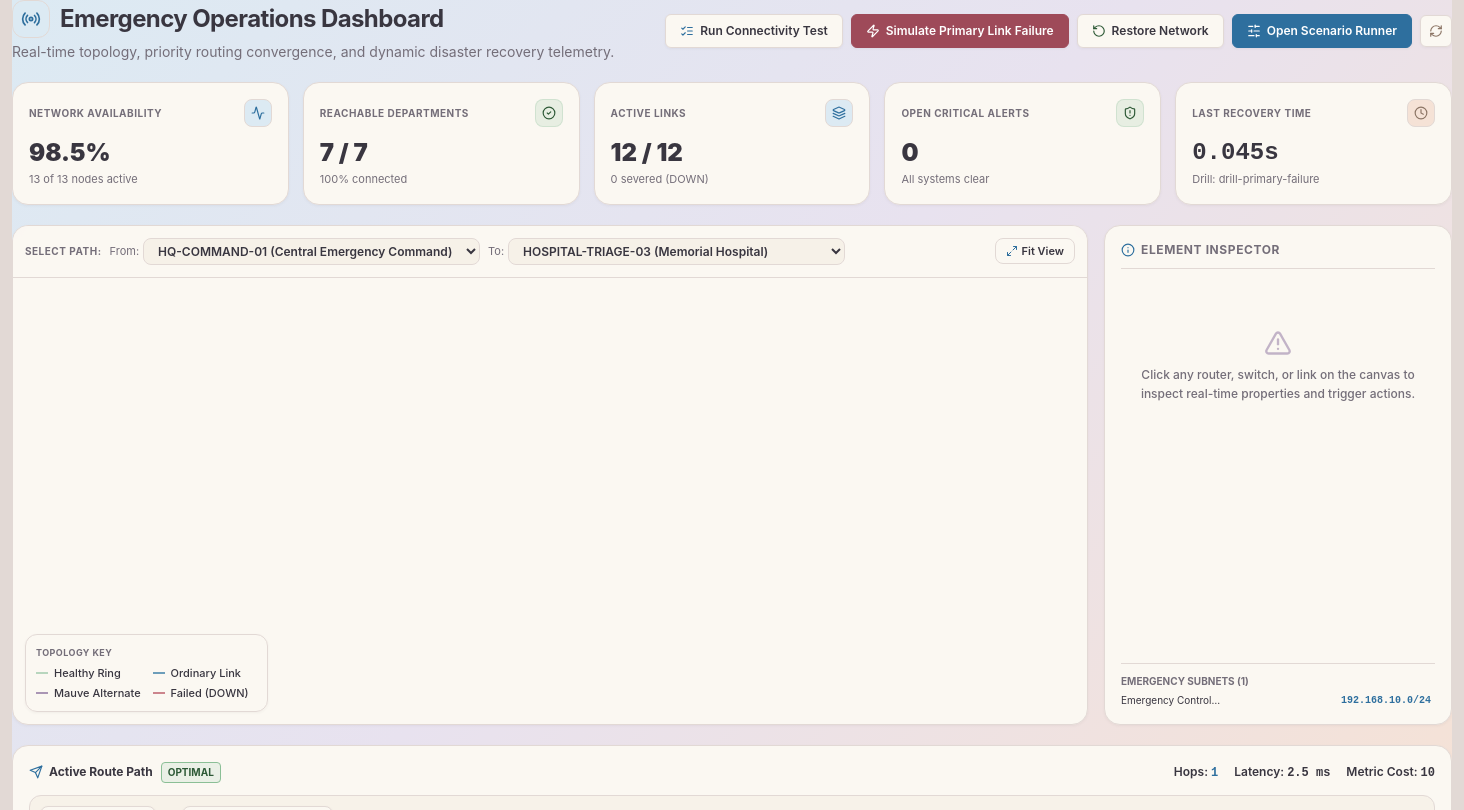
Test case: DashboardPage › handles "Simulate Primary Link Failure" action button click
Click the button "Simulate Primary Link Failure".
click(960, 31)  # box 851,14 -> 1069,48
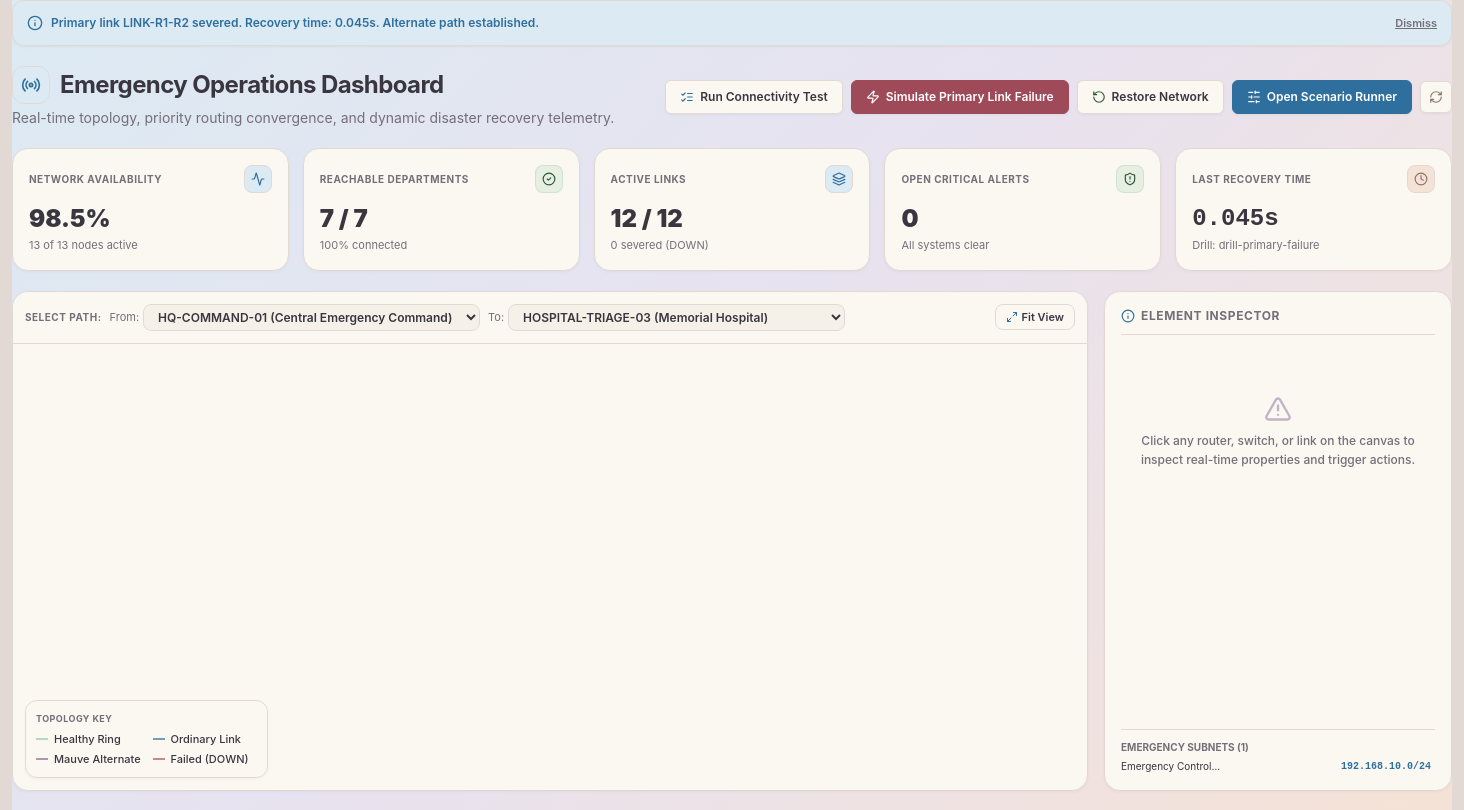
Result: the text "Primary link LINK-R1-R2 severed" is shown at 51,15 -> 539,30
